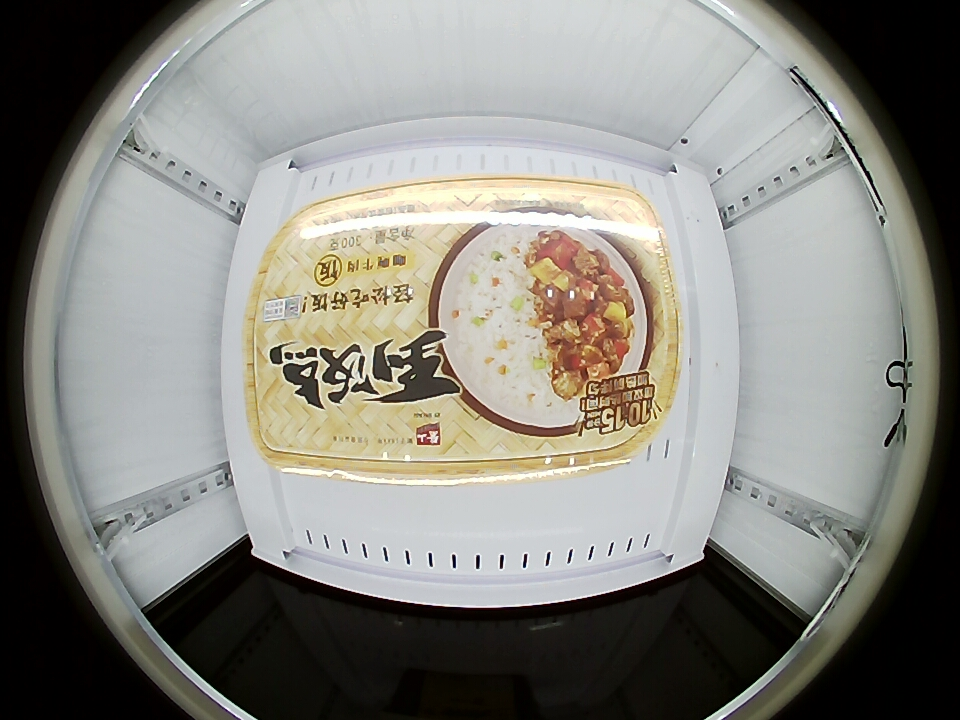daofandian2: (242, 181, 688, 487)
